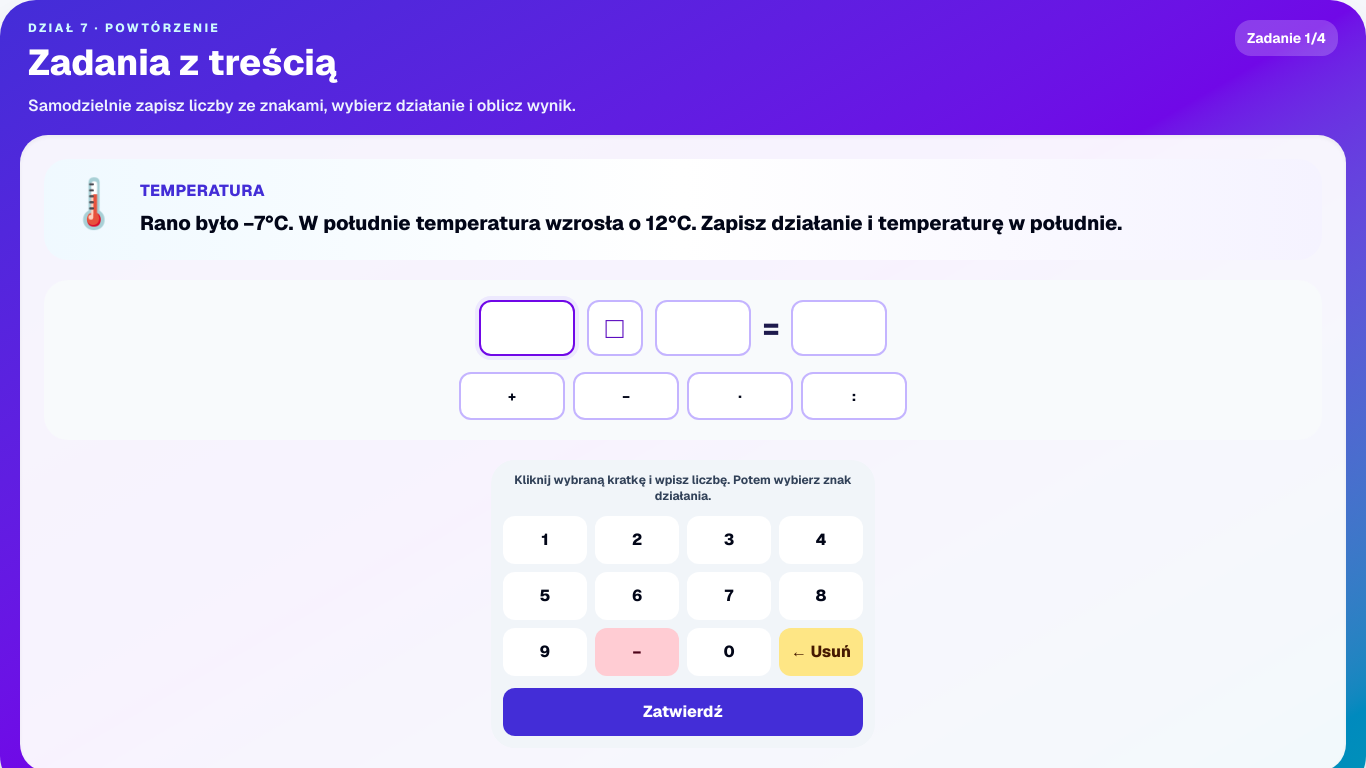
Test: IntegerReviewLessonLab › wpisuje wybrany znak do kratki działania w zadaniu z treścią
Expected: the text named "Wybrany znak działania" reads "□", 606,308 -> 624,346
Click the button "+" at [512, 396], box 459,372 -> 565,420
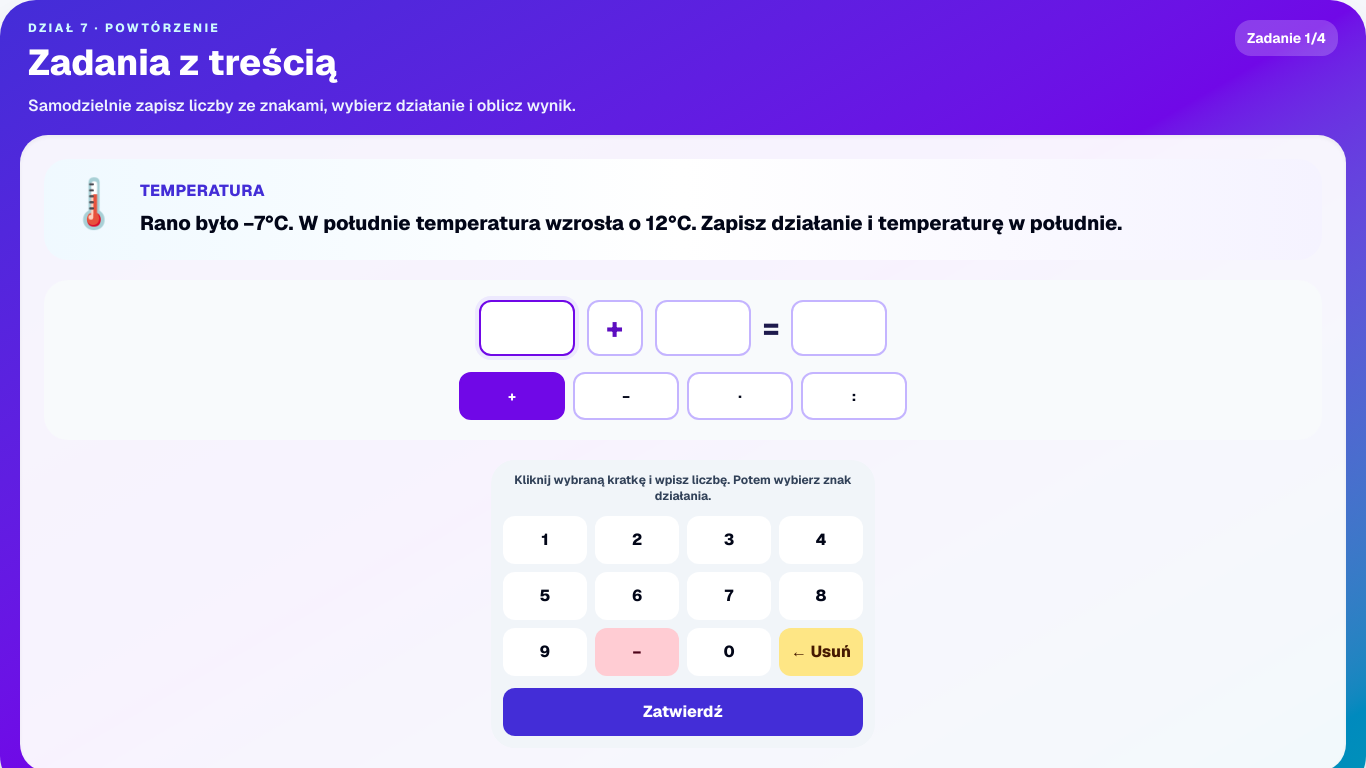
Expected: the text named "Wybrany znak działania" reads "+", 606,308 -> 623,346
